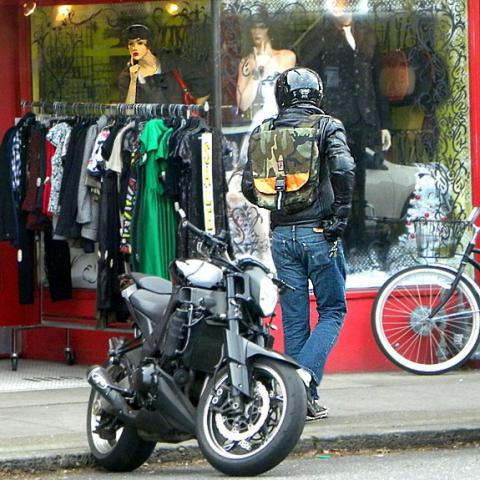car: (364, 149, 454, 242)
motorcycle: (84, 208, 308, 468)
